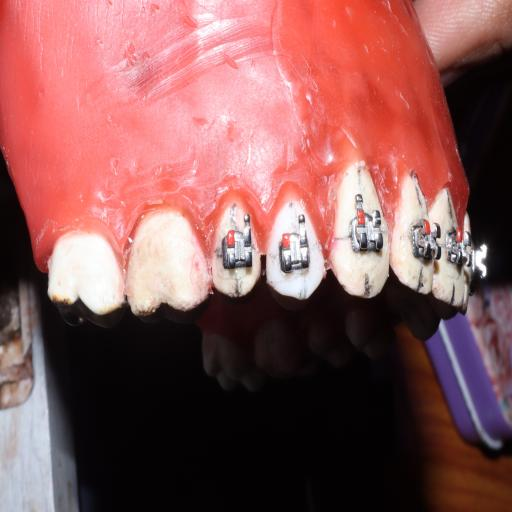correct_brace: (266, 194, 320, 300)
